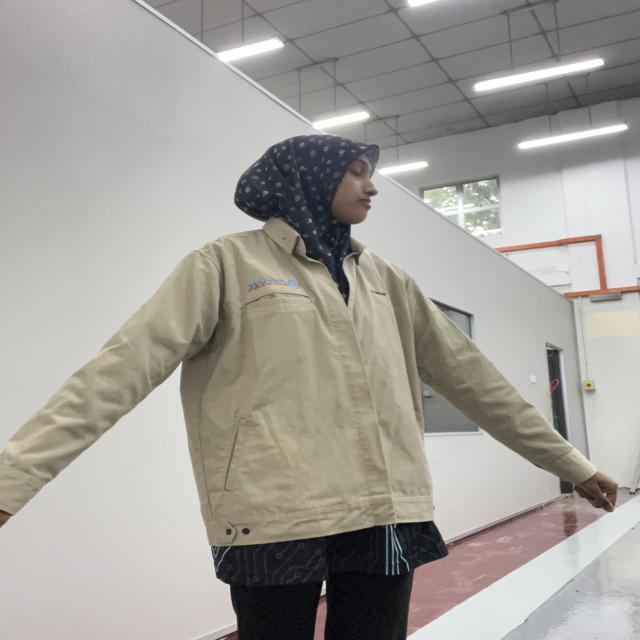person_with_labcoat: (0, 133, 616, 640)
